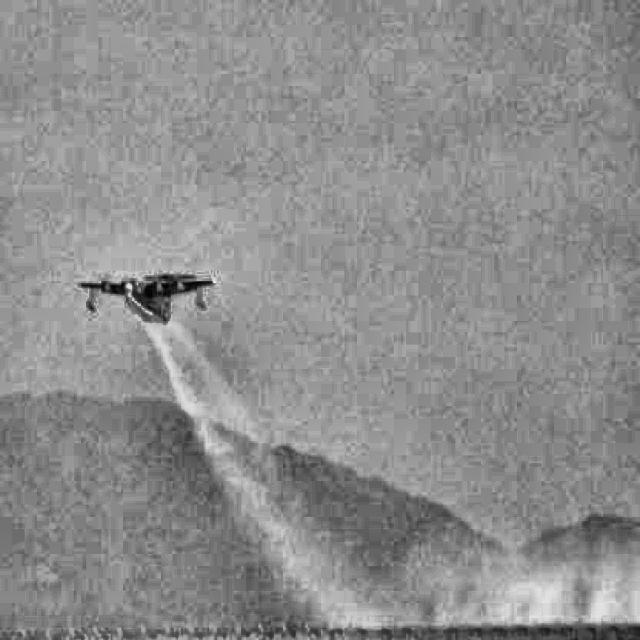US2: (78, 273, 216, 327)
